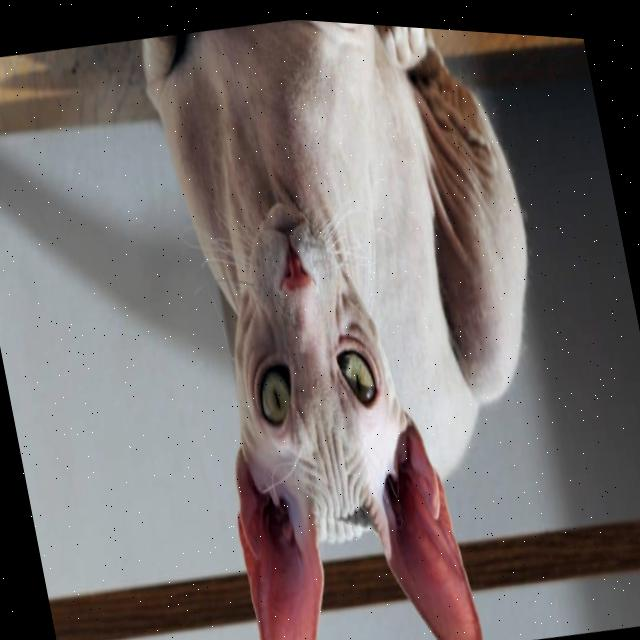Cornish Rex: (131, 7, 608, 640)
